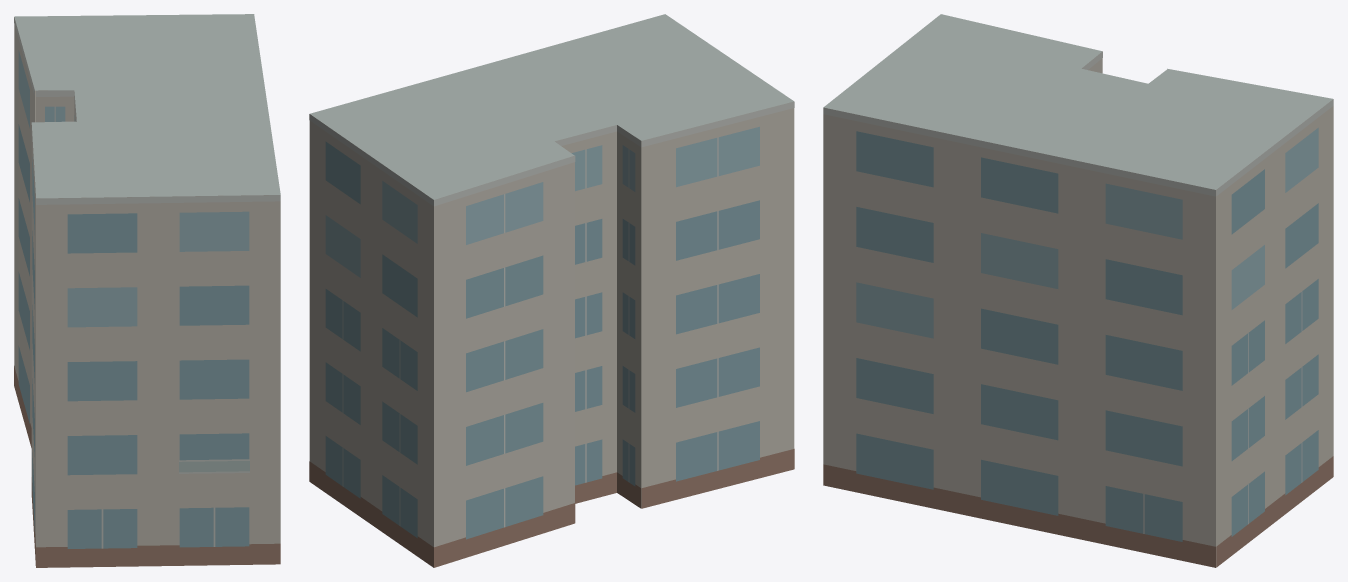
File: survey-upis-32879140.glb
3 renders of one model, left to right at view 1: azimuth 30°, elevation 25°; view 2: azimuth 150°, elevation 25°; view 3: azimuth 270°, elevation 25°, orthographic. The views are drawn at different scales.
Visible parts, largest first — view 1: survey-upis-32879140.tmp; view 2: survey-upis-32879140.tmp; view 3: survey-upis-32879140.tmp.
Part boxes in pixels (<box>): survey-upis-32879140.tmp: <box>14,14,280,567</box>; survey-upis-32879140.tmp: <box>309,14,794,567</box>; survey-upis-32879140.tmp: <box>823,14,1333,567</box>.
Bounding box in the file's own units: 13.79 × 13.8 × 16.9.
